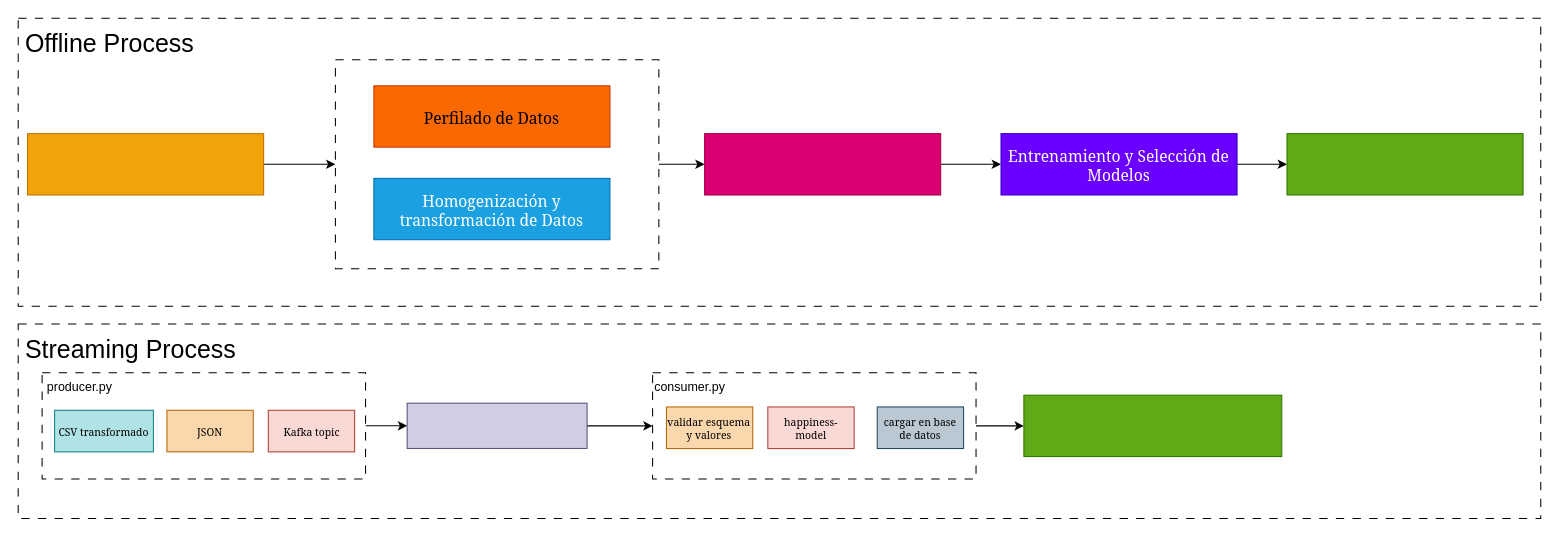
Some shapes in this 1559 by 537 pixel diagram are drawn without their labels. Each missing label, with the box of its shape:
Análisis de Datos: (704, 133, 941, 195)
Extracción CSV Files: (27, 133, 264, 195)
get-happiness-predictions: (406, 402, 587, 448)
Model.pkl: (1286, 133, 1523, 195)
visualización en dashboard y kpis: (1023, 394, 1282, 457)
